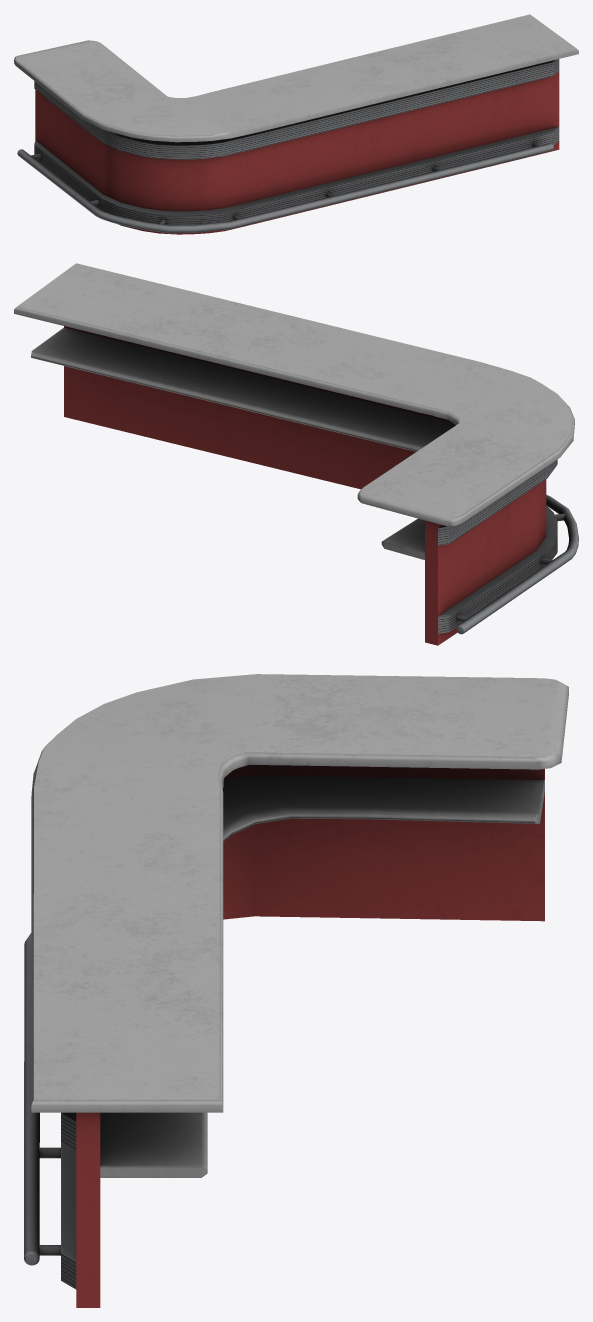
The model's file is Diner Counter.fbx.
3 views of the same model, one above another, from view 1: azimuth 30°, elevation 25°; view 2: azimuth 150°, elevation 25°; view 3: azimuth 270°, elevation 25° (orthographic). The views are drawn at different scales.
Parts seen in each view (by area): view 1: Diner_Counter; view 2: Diner_Counter; view 3: Diner_Counter.
Boxes of the visible parts, x1=… form: Diner_Counter: x1=14, y1=14, x2=578, y2=234; Diner_Counter: x1=14, y1=263, x2=578, y2=645; Diner_Counter: x1=24, y1=674, x2=568, y2=1307.
Size of the model in its own units: 430 by 100 by 231.
Materials: 1 (1 with a texture image).
